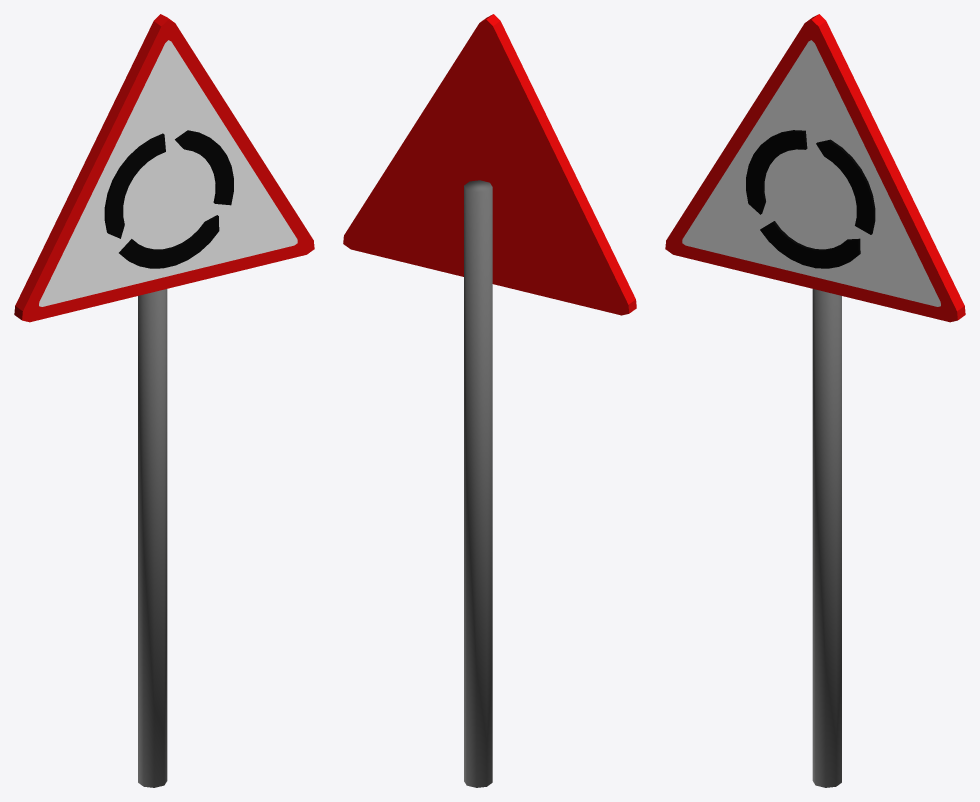
Rendered from Prop_StreetSign_Rotary .fbx.
The picture shows the model from 3 angles, left to right: view 1: azimuth 30°, elevation 25°; view 2: azimuth 150°, elevation 25°; view 3: azimuth 330°, elevation 25°; orthographic projection. The views are drawn at different scales.
Visible parts, largest first — view 1: Prop_StreetSign_Rotary; view 2: Prop_StreetSign_Rotary; view 3: Prop_StreetSign_Rotary.
Part boxes in pixels (<box>): Prop_StreetSign_Rotary: <box>14,14,314,787</box>; Prop_StreetSign_Rotary: <box>343,14,636,787</box>; Prop_StreetSign_Rotary: <box>665,14,965,787</box>.
Bounding box in the file's own units: 166 × 420 × 23.99.
